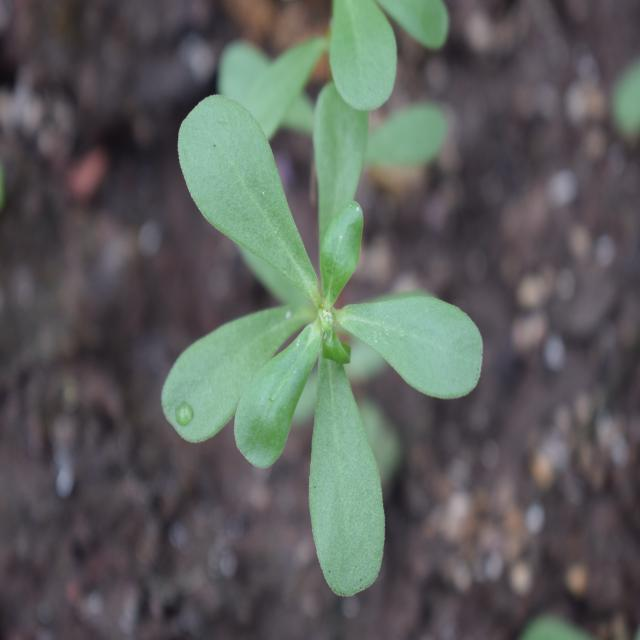purslane: (166, 52, 514, 584)
